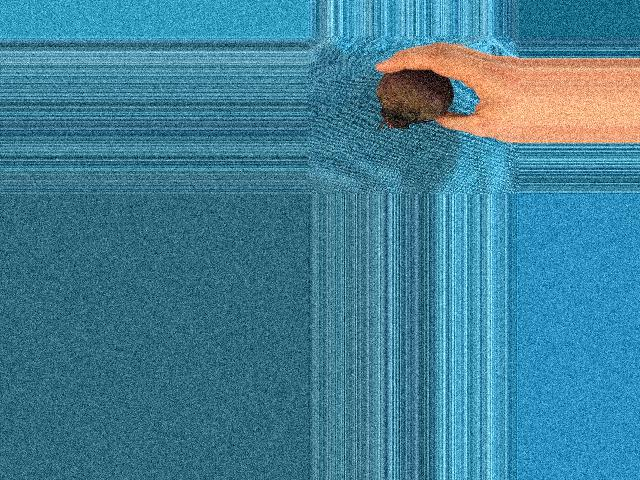beet: (376, 70, 452, 130)
